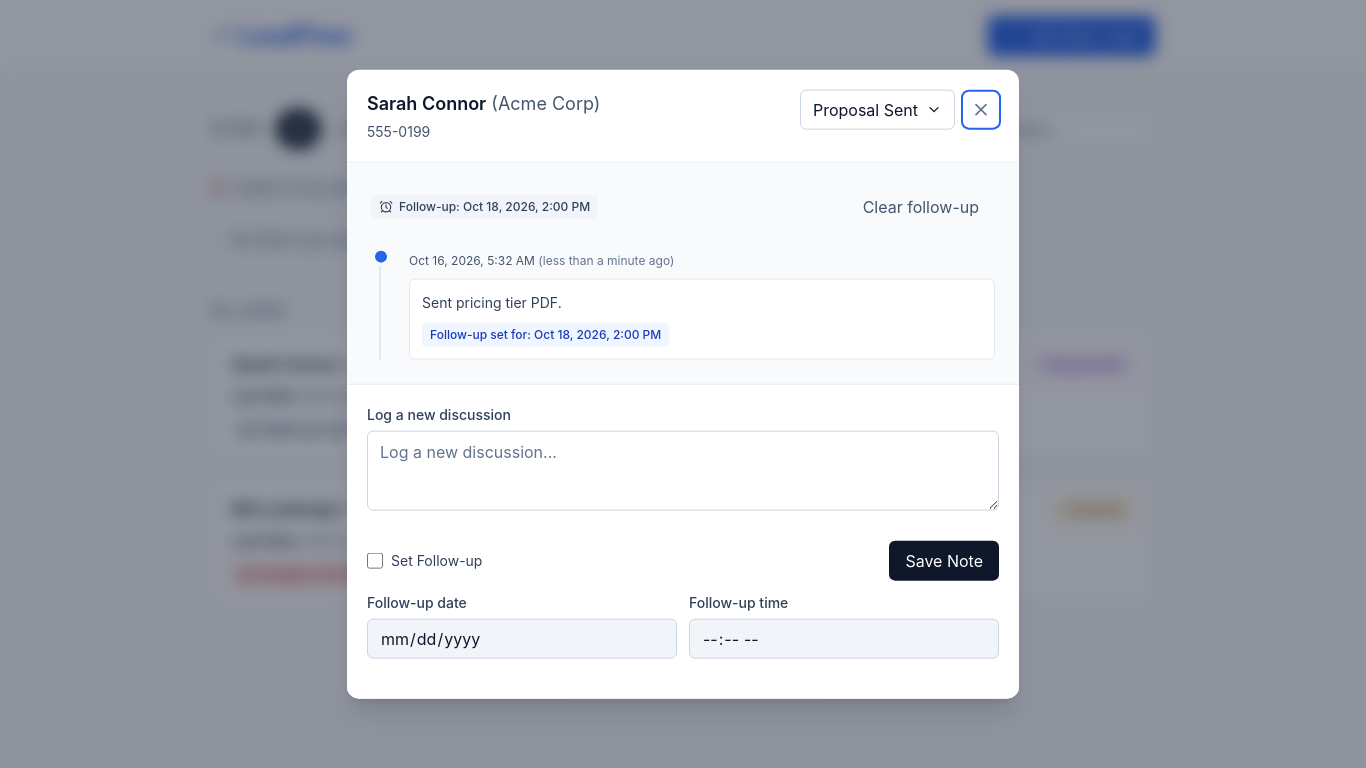
clears follow-ups without writing a note and supports dialog deep links
Click the button "Clear follow-up".
click(921, 207)  # box [847, 187, 995, 227]
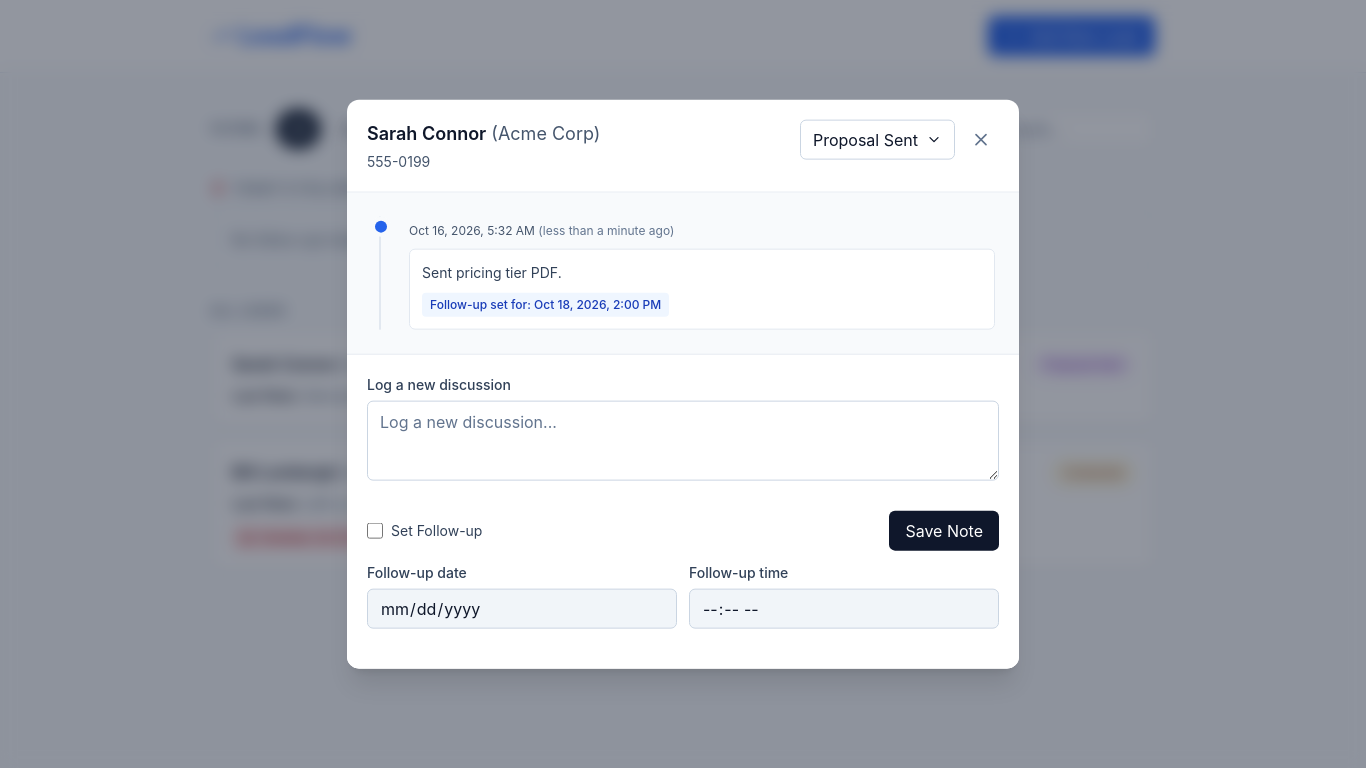
Check: the number of list items is 1, box [381, 217, 995, 329]
Check: the button "Clear follow-up" is gone
